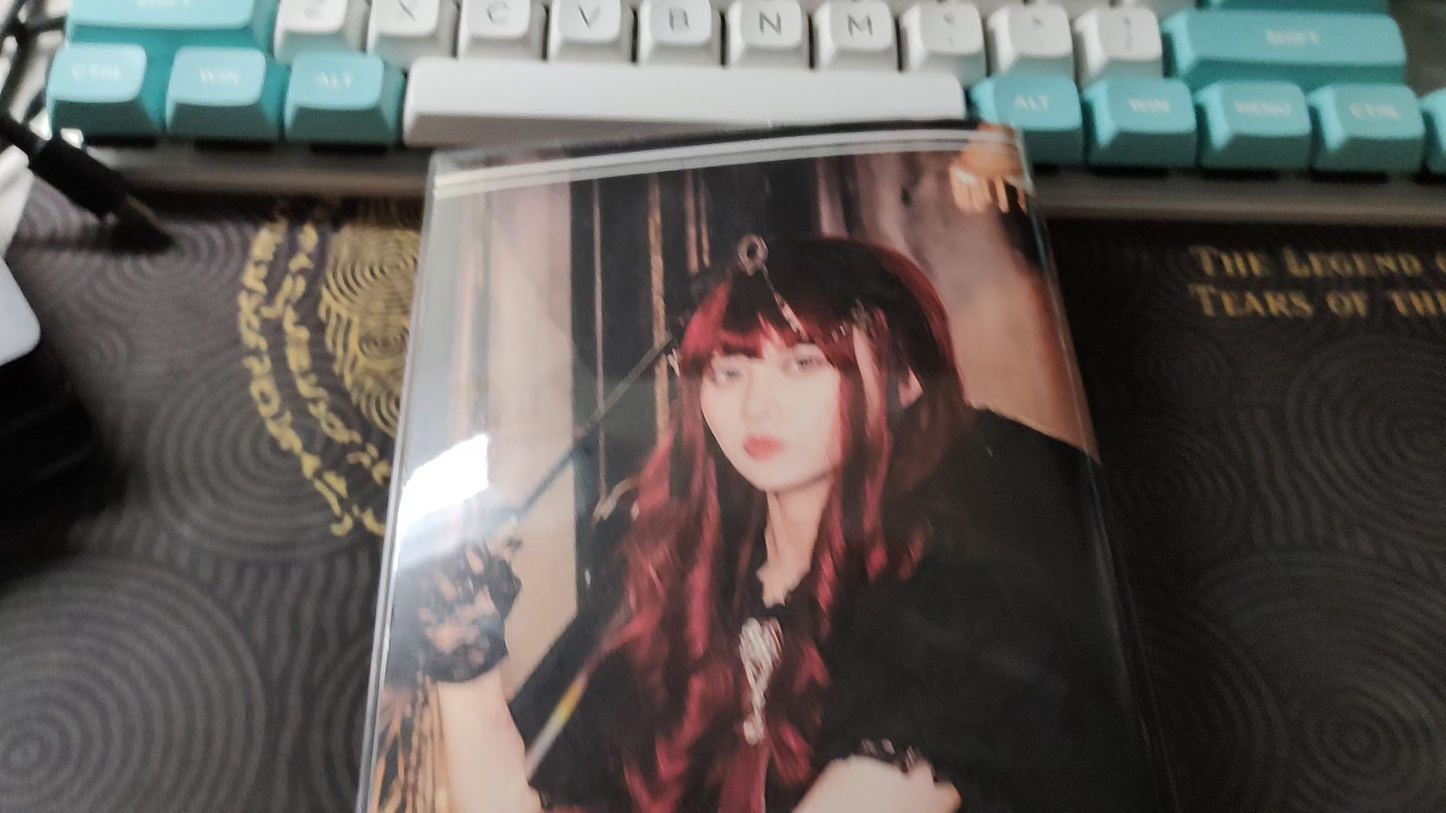Photo_book: (353, 121, 1182, 813)
